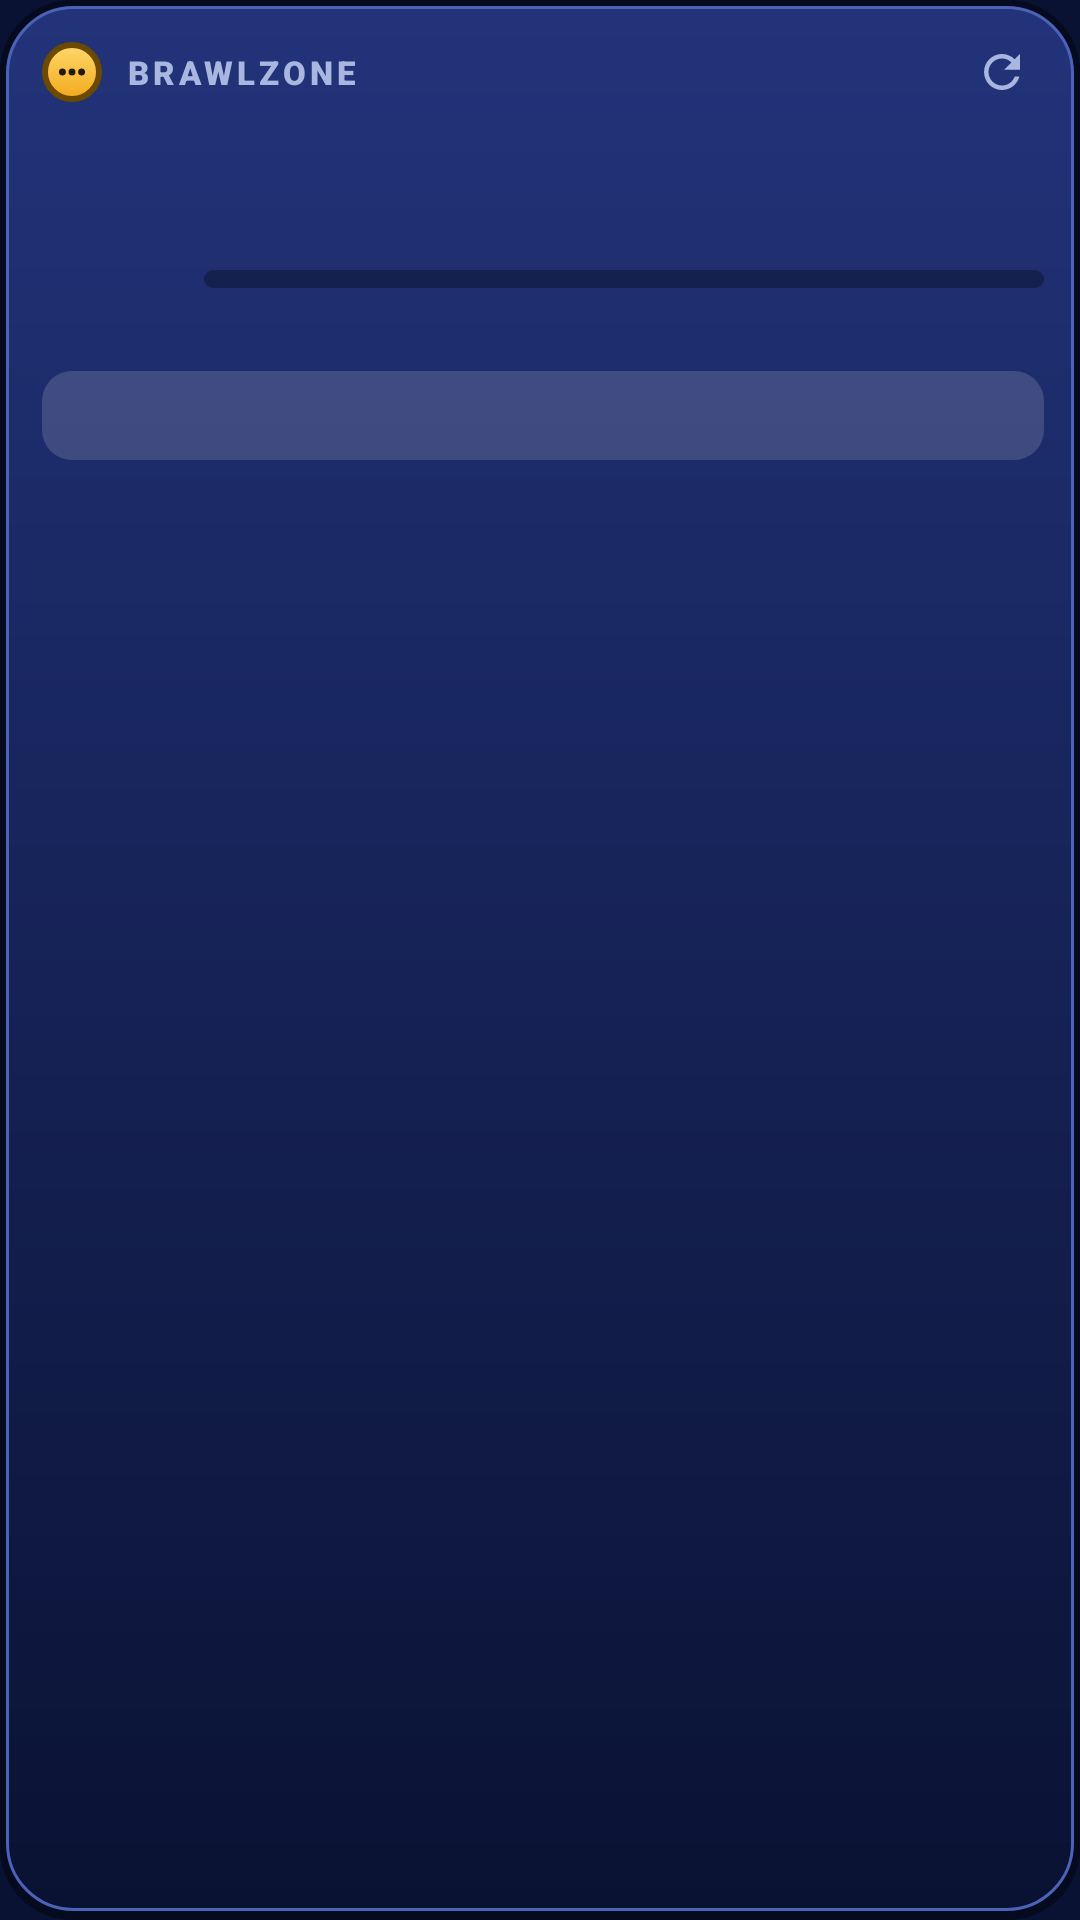

Where icons sit on this 1080x1920 app screen, as (x1, y1, x2, y2):
bubble glyph: (42, 42, 102, 102)
refresh: (984, 54, 1020, 90)
